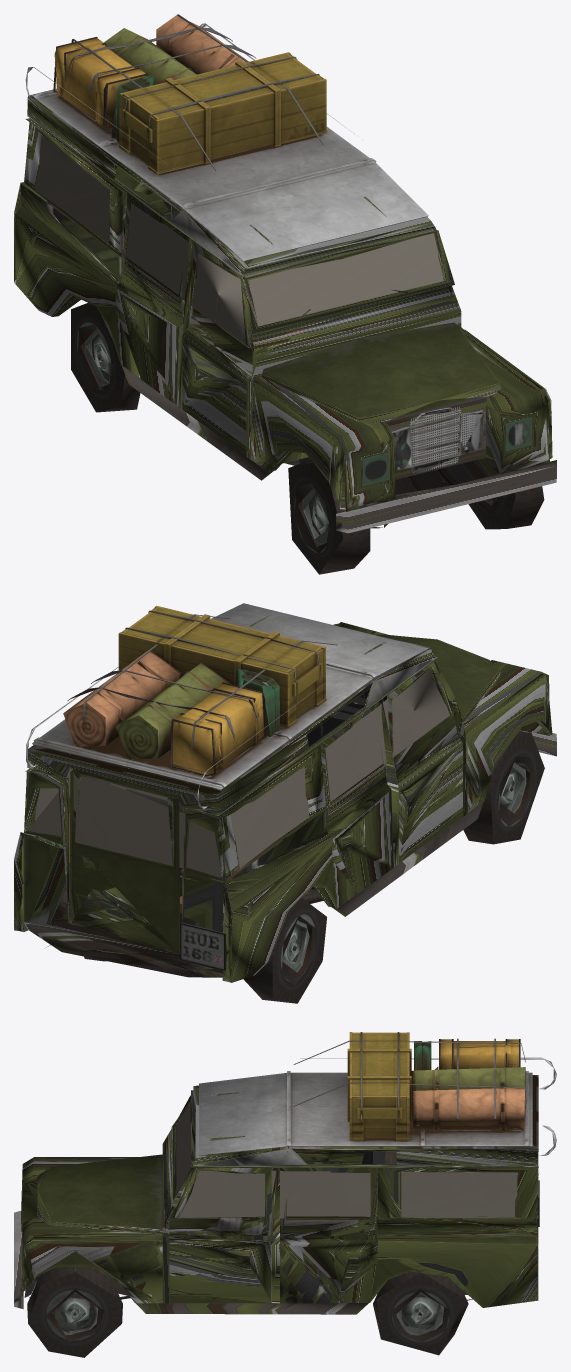
The model's file is land_rover_olive_game.gltf.
3 views of the same model, one above another, from view 1: azimuth 30°, elevation 25°; view 2: azimuth 150°, elevation 25°; view 3: azimuth 270°, elevation 25° (orthographic). The views are drawn at different scales.
Parts seen in each view (by area): view 1: land_rover; view 2: land_rover; view 3: land_rover.
Part boxes in pixels (bbox=[...]): land_rover: bbox=[14, 14, 556, 574]; land_rover: bbox=[14, 603, 556, 1003]; land_rover: bbox=[14, 1032, 556, 1357].
Bounding box in the file's own units: 1.49 × 2.07 × 3.97.
6 materials, 6 textured.
